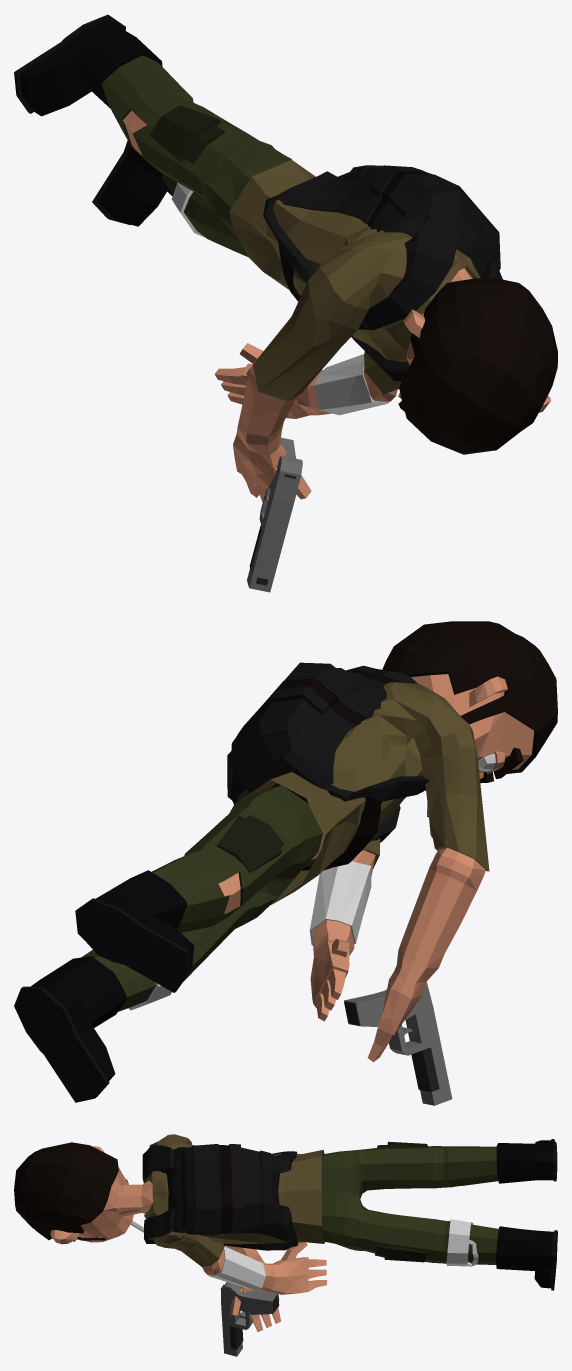
The model's file is frame_0004.obj.
3 views of the same model, one above another, from view 1: azimuth 30°, elevation 25°; view 2: azimuth 150°, elevation 25°; view 3: azimuth 270°, elevation 25° (orthographic). The views are drawn at different scales.
Visible parts, largest first — view 1: Body, Gun; view 2: Body, Gun; view 3: Body, Gun.
Part boxes in pixels (<box>): Body: <box>14,14,557,501</box>; Gun: <box>247,437,302,592</box>; Body: <box>14,621,557,1102</box>; Gun: <box>344,982,452,1105</box>; Body: <box>14,1134,557,1331</box>; Gun: <box>220,1282,279,1356</box>.
Bounding box in the file's own units: 1.35 × 2.12 × 4.15.
